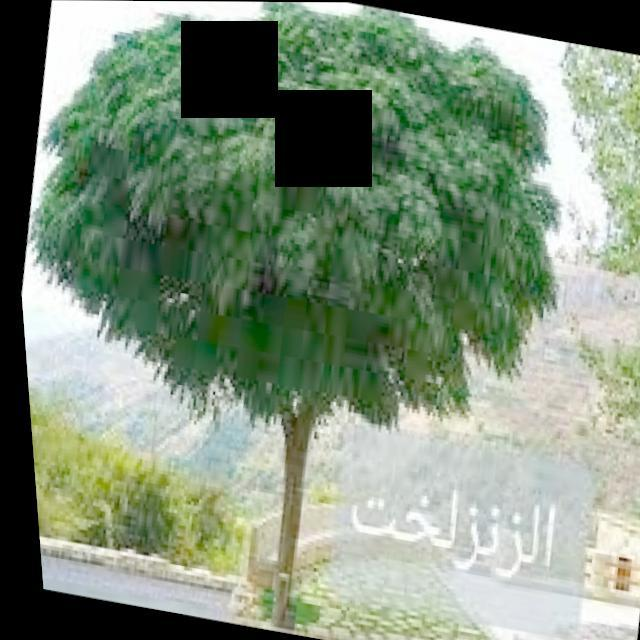Tree: (1, 1, 615, 640), (482, 39, 640, 449)
